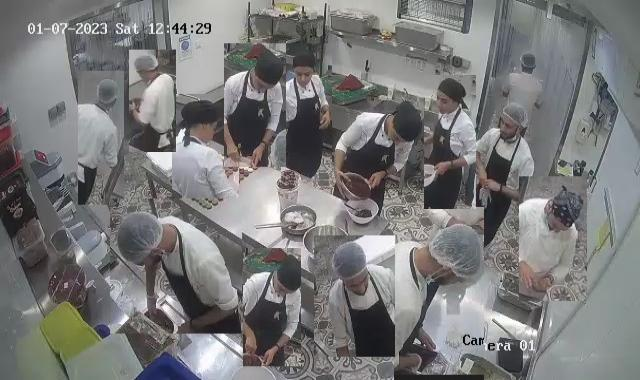hairnet: (427, 222, 484, 286), (115, 206, 164, 272), (330, 243, 367, 296), (92, 77, 120, 114), (502, 104, 528, 140), (132, 56, 161, 80), (519, 51, 538, 74)
no_hairnet: (548, 184, 584, 234), (386, 106, 423, 147), (250, 54, 280, 96), (273, 256, 302, 294), (192, 100, 218, 138), (436, 81, 464, 113), (291, 50, 317, 83)
